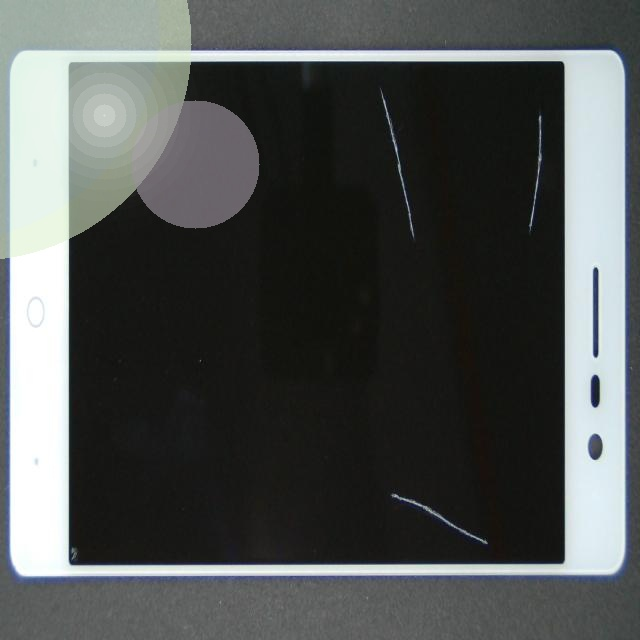scratch: (169, 0, 578, 203)
